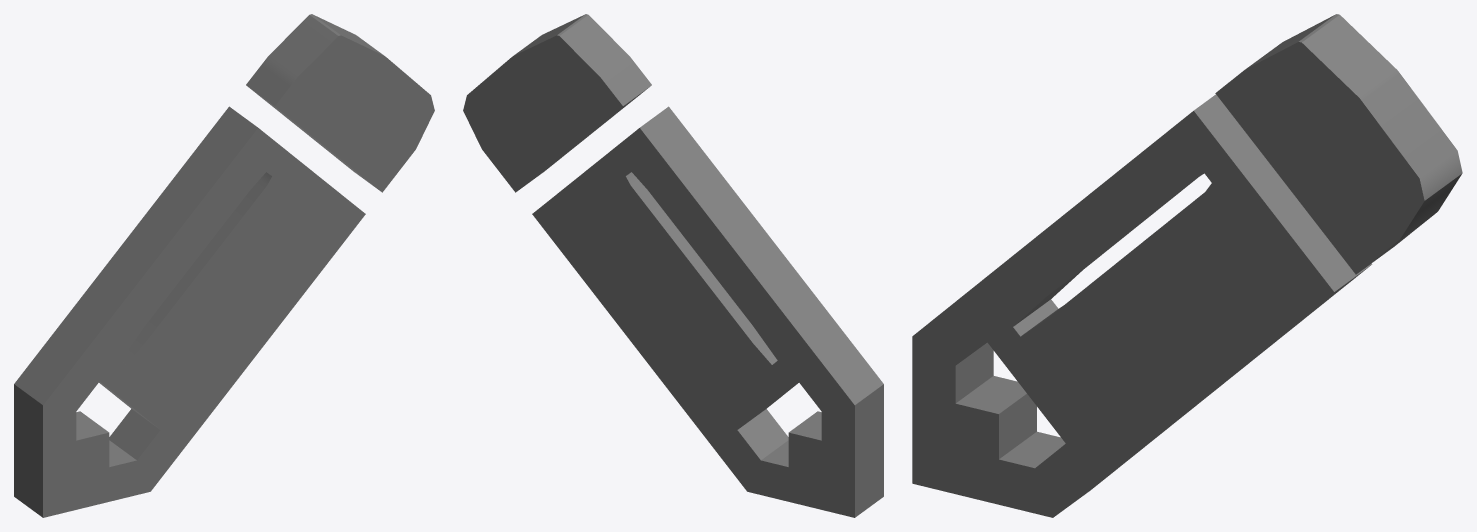
Rendered from fa-pencil.obj.
3 views of the same model, side by side, from view 1: azimuth 30°, elevation 25°; view 2: azimuth 150°, elevation 25°; view 3: azimuth 330°, elevation 25° (orthographic). The views are drawn at different scales.
Size of the model in its own units: 0.8946 by 0.8946 by 0.1152.
Materials: 1 (1 with a texture image).
